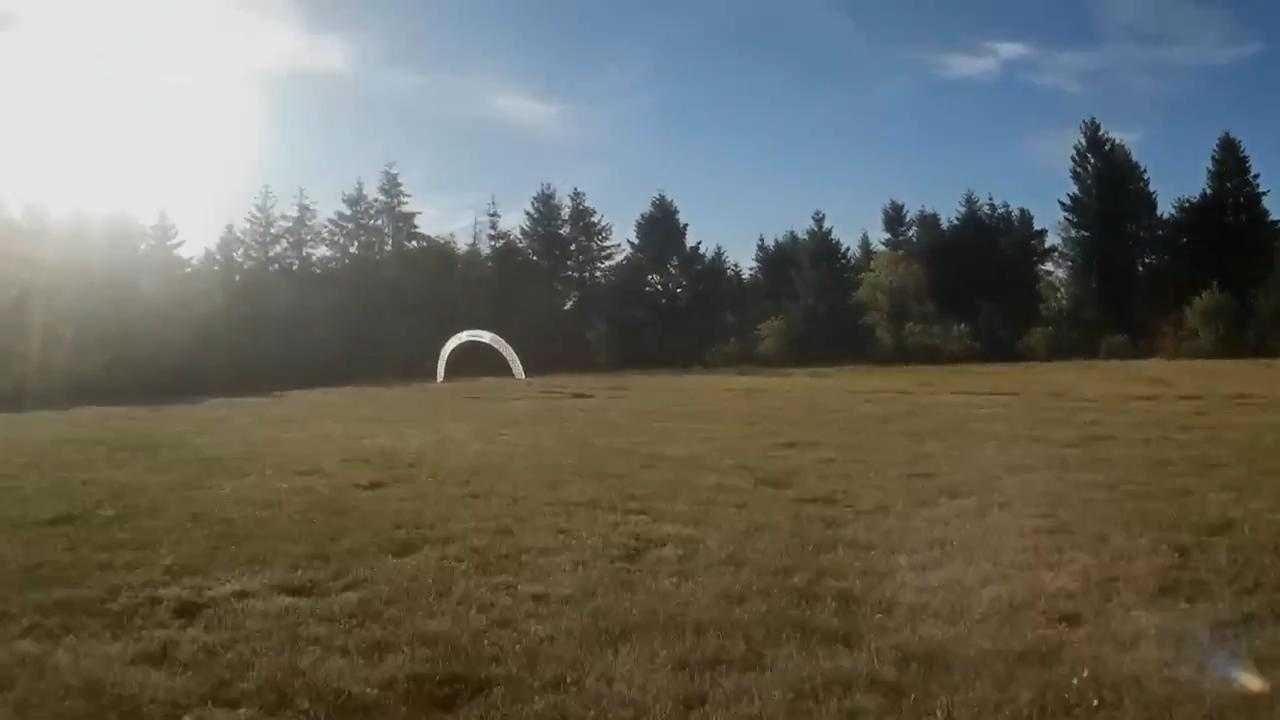gate: (435, 329, 523, 384)
